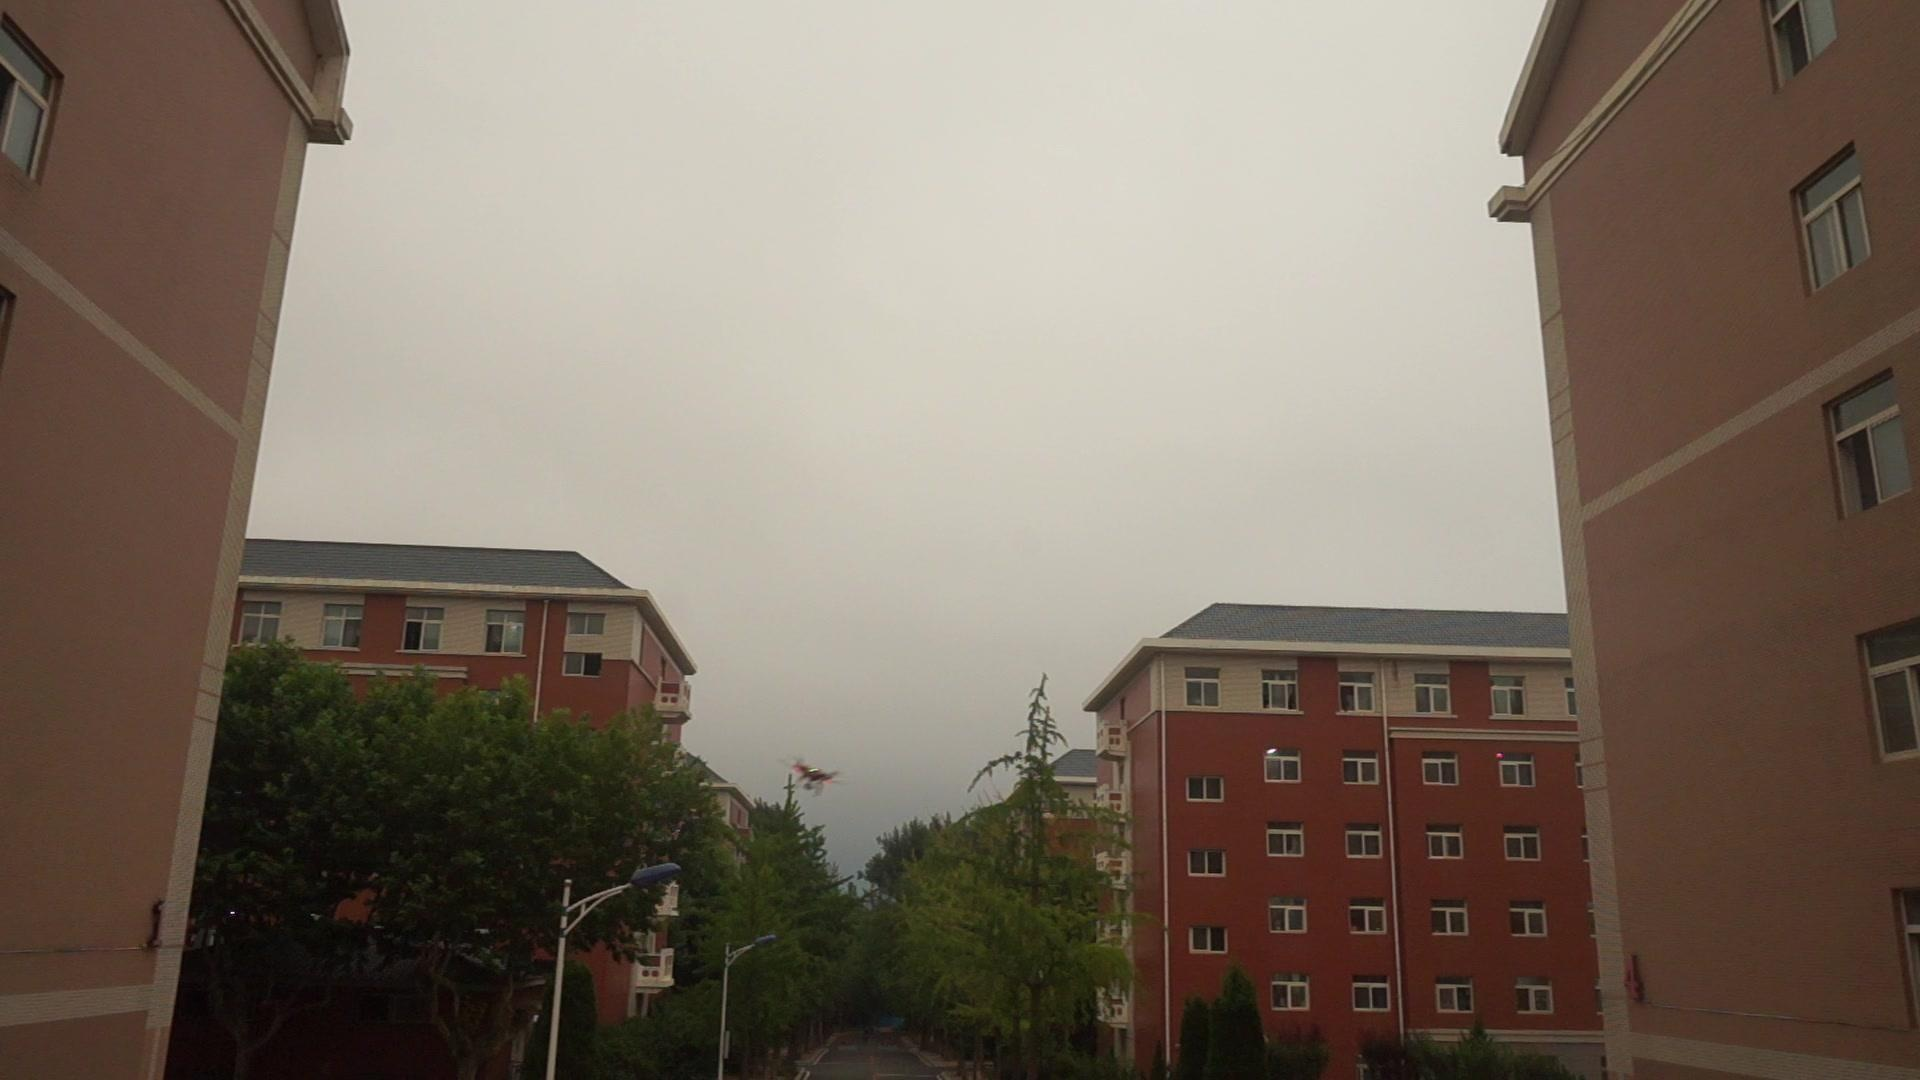UAV: (793, 760, 840, 796)
